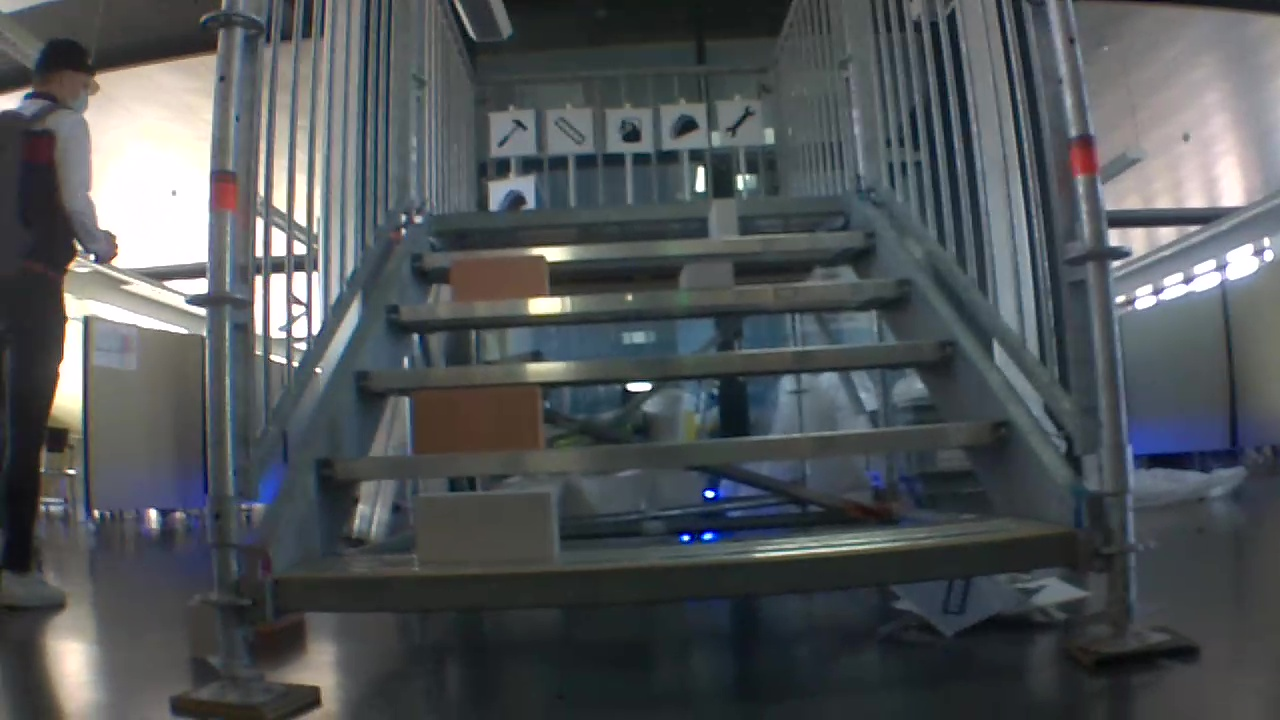brick: (415, 488, 555, 566), (415, 386, 539, 454), (450, 253, 546, 298), (679, 262, 732, 288), (706, 200, 738, 238)
bucket: (612, 111, 646, 147)
edge: (269, 531, 1071, 611), (316, 422, 1006, 477), (355, 340, 958, 387), (383, 277, 912, 318), (412, 229, 875, 264), (429, 196, 849, 222)
hammer: (494, 115, 530, 152)
ruler: (549, 114, 590, 148)
stairs: (168, 2, 1202, 714)
steps: (263, 190, 1079, 625)
taco: (667, 110, 703, 143), (494, 186, 529, 209)
wrench: (719, 101, 758, 141)
